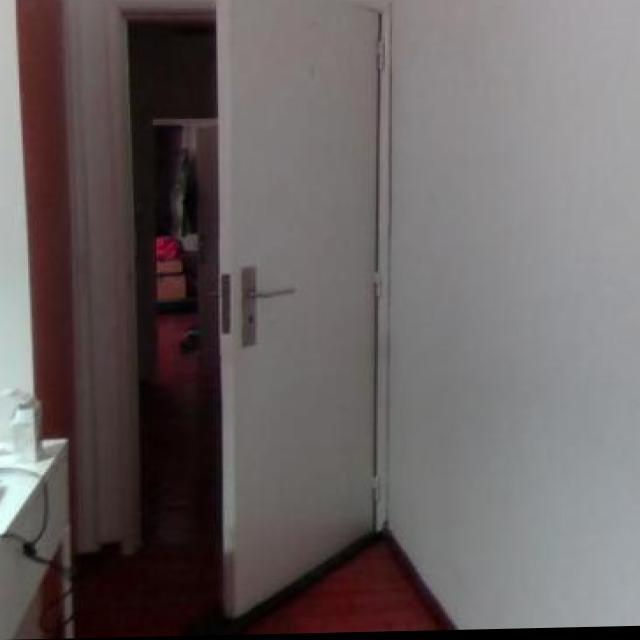door_handle: (246, 284, 297, 309)
